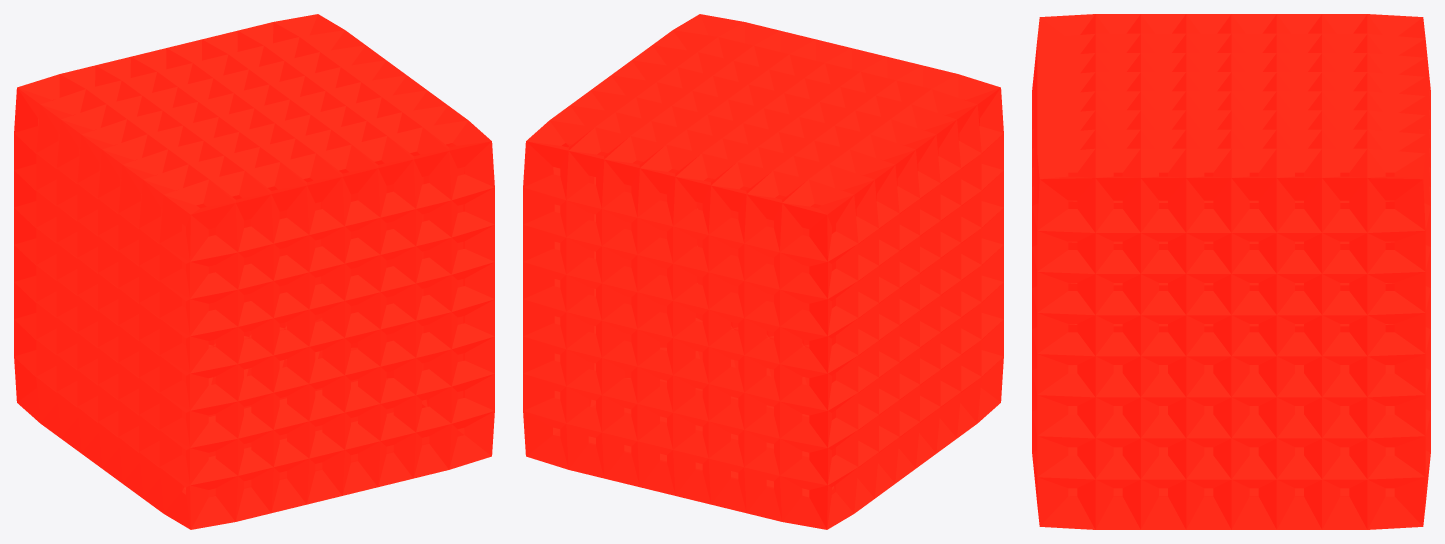
Rendered from asset.gltf.
3 renders of one model, left to right at view 1: azimuth 30°, elevation 25°; view 2: azimuth 150°, elevation 25°; view 3: azimuth 270°, elevation 25°, orthographic. The views are drawn at different scales.
Visible parts, largest first — view 1: Cube; view 2: Cube; view 3: Cube.
Boxes of the visible parts, x1=… form: Cube: x1=14, y1=14, x2=494, y2=529; Cube: x1=523, y1=14, x2=1003, y2=529; Cube: x1=1032, y1=14, x2=1430, y2=529.
Size of the model in its own units: 2.2 by 2.2 by 2.2.
